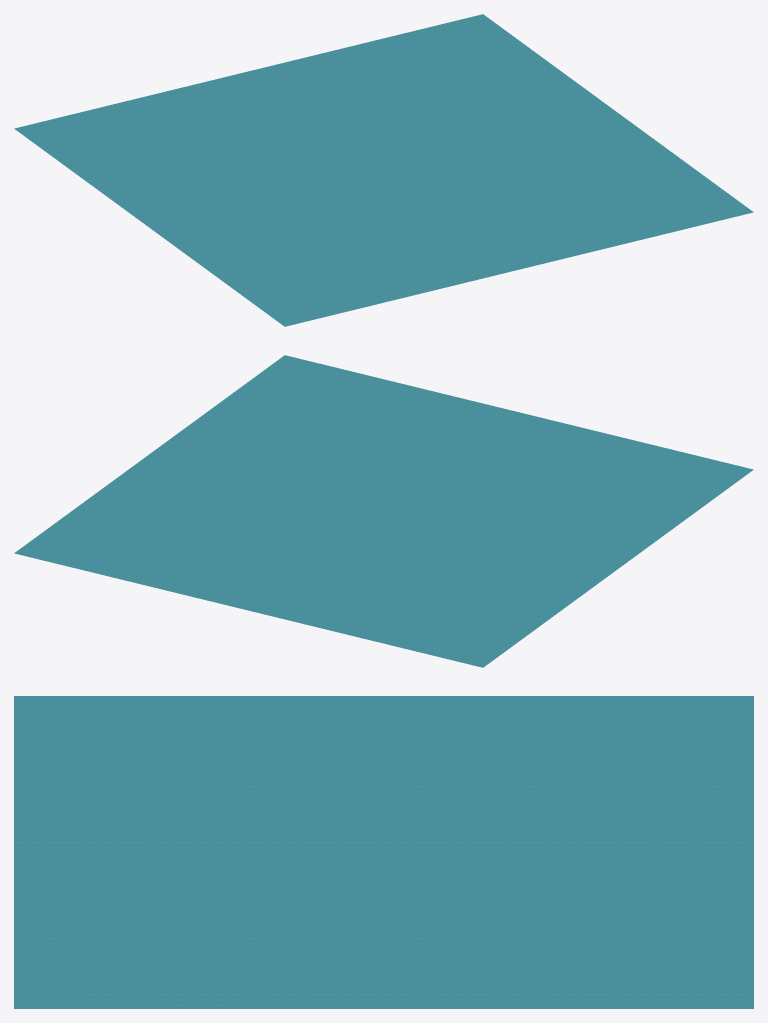
File: water.obj
3 views of the same model, one above another, from view 1: azimuth 30°, elevation 25°; view 2: azimuth 150°, elevation 25°; view 3: azimuth 270°, elevation 25° (orthographic). The views are drawn at different scales.
Parts seen in each view (by area): view 1: Plane; view 2: Plane; view 3: Plane.
Boxes of the visible parts, box(x1,y1,x2,y2) form: Plane: box(14, 14, 753, 326); Plane: box(14, 355, 753, 667); Plane: box(14, 696, 753, 1008).
Size of the model in its own units: 40000 by 0.00175 by 40000.
1 material, 1 textured.
